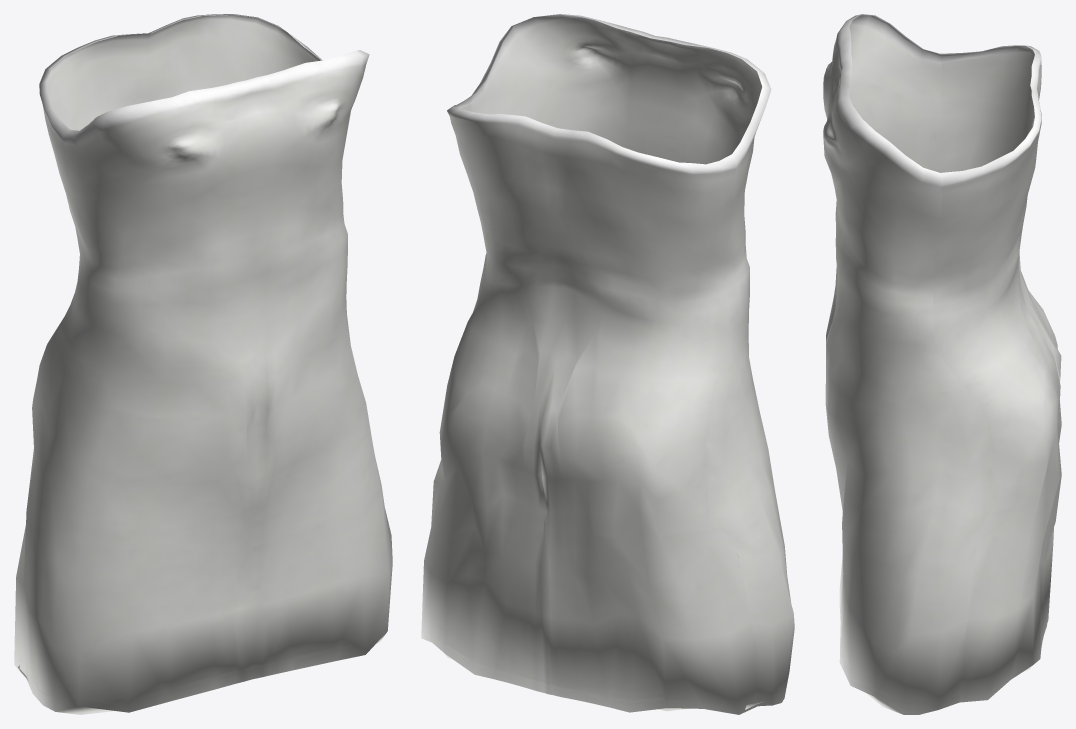
The model's file is punkduck-tube-dress.glb.
The picture shows the model from 3 angles, left to right: view 1: azimuth 30°, elevation 25°; view 2: azimuth 150°, elevation 25°; view 3: azimuth 270°, elevation 25°; orthographic projection. The views are drawn at different scales.
Parts seen in each view (by area): view 1: Human.punkduck_tube_dress; view 2: Human.punkduck_tube_dress; view 3: Human.punkduck_tube_dress.
Part boxes in pixels (box(x1,y1,x2,y2)): Human.punkduck_tube_dress: box(14, 14, 392, 714); Human.punkduck_tube_dress: box(421, 14, 794, 714); Human.punkduck_tube_dress: box(823, 14, 1061, 714).
Size of the model in its own units: 0.4523 by 0.7566 by 0.2825.
1 material, 1 textured.
